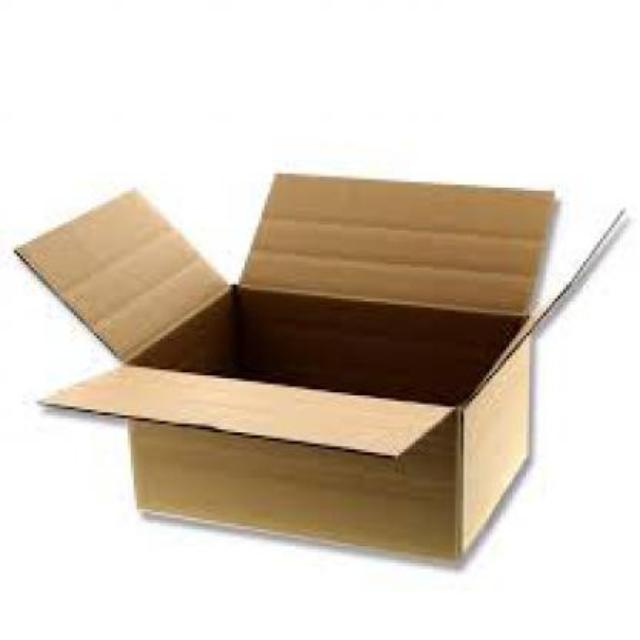cardboard_box: (20, 130, 616, 568)
